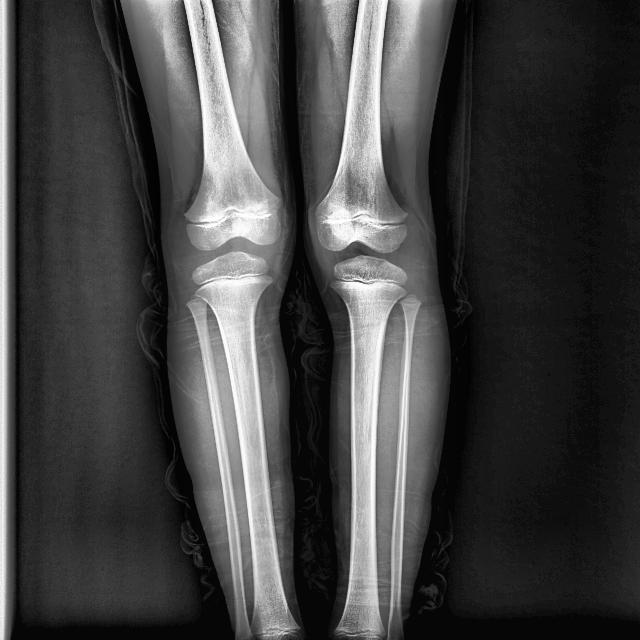Not_Fracture: (118, 0, 462, 640)
